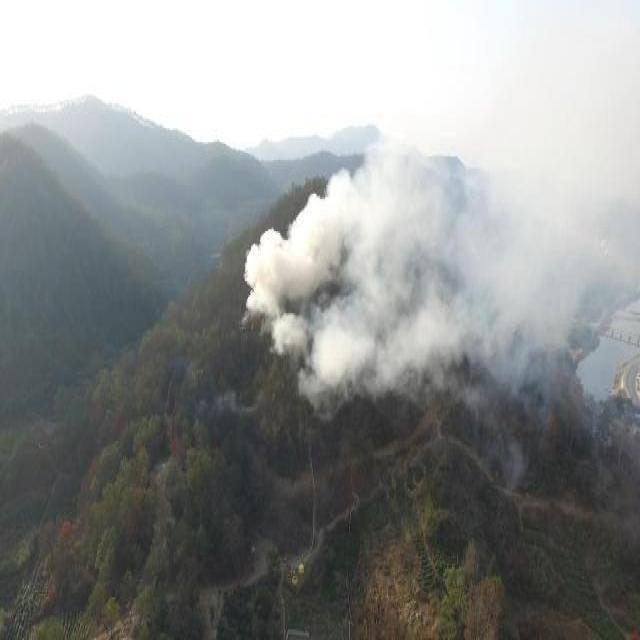Smoke: (243, 157, 640, 409)
